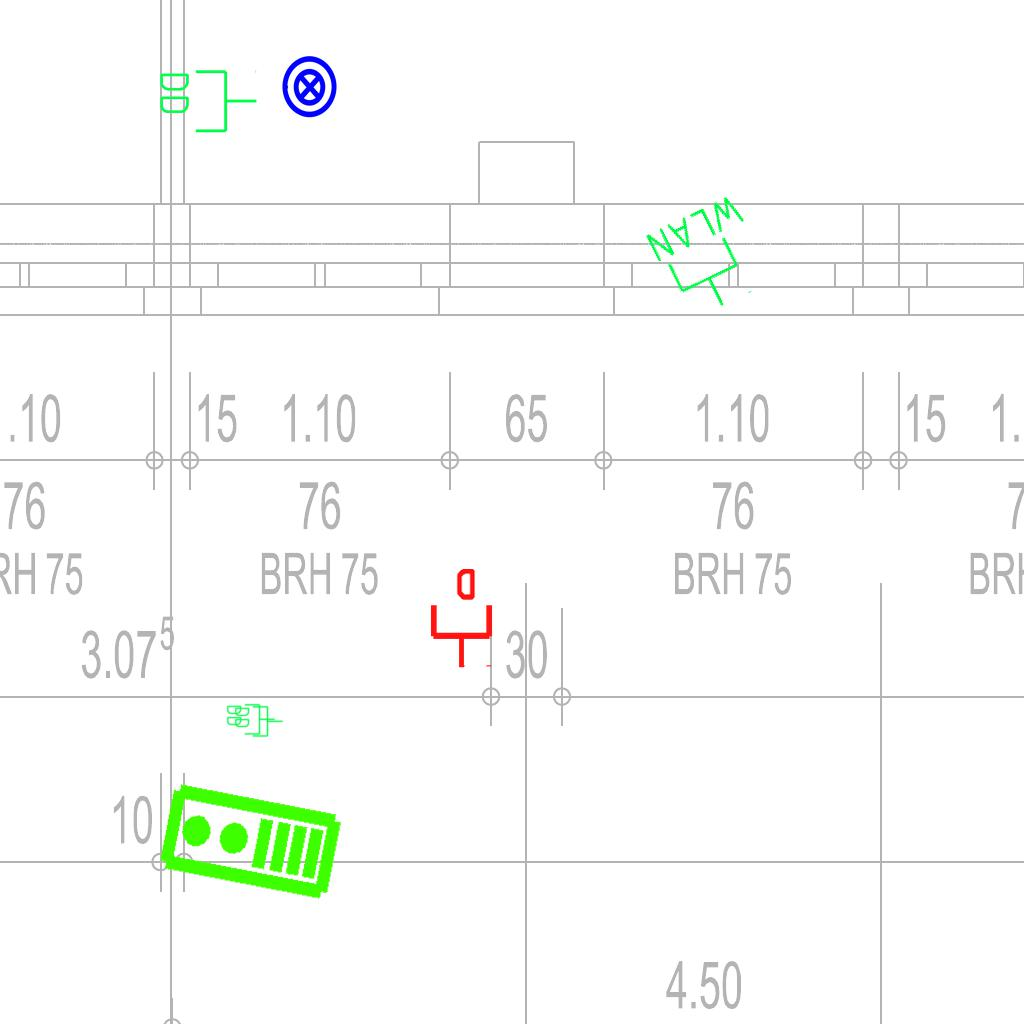Datenanschluss_einfach: (427, 569, 496, 669)
Datenanschluss_zweifach: (156, 66, 259, 135), (225, 702, 276, 736), (233, 704, 284, 738)
Gegensprechanlage_mit_Video: (154, 779, 345, 907)
Taster_beleuchtet: (277, 54, 343, 120)
WLAN: (640, 187, 780, 328)
